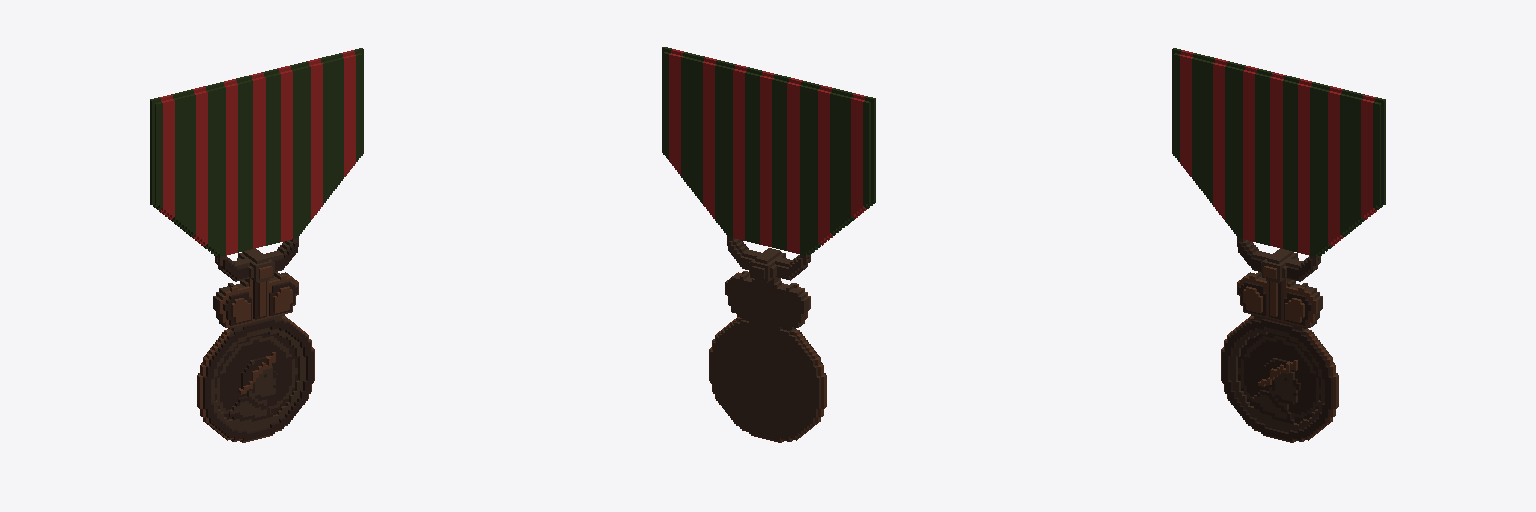
The picture shows the model from 3 angles: view 1: azimuth 30°, elevation 25°; view 2: azimuth 150°, elevation 25°; view 3: azimuth 330°, elevation 25°; orthographic projection.
Parts seen in each view (by area): view 1: object 1; view 2: object 1; view 3: object 1.
Boxes of the visible parts, <box> form: object 1: <box>150,48,363,442</box>; object 1: <box>662,47,875,442</box>; object 1: <box>1172,48,1385,442</box>.
Bounding box in the file's own units: 7 × 11.5 × 1.2.
Materials: 1 (1 with a texture image).